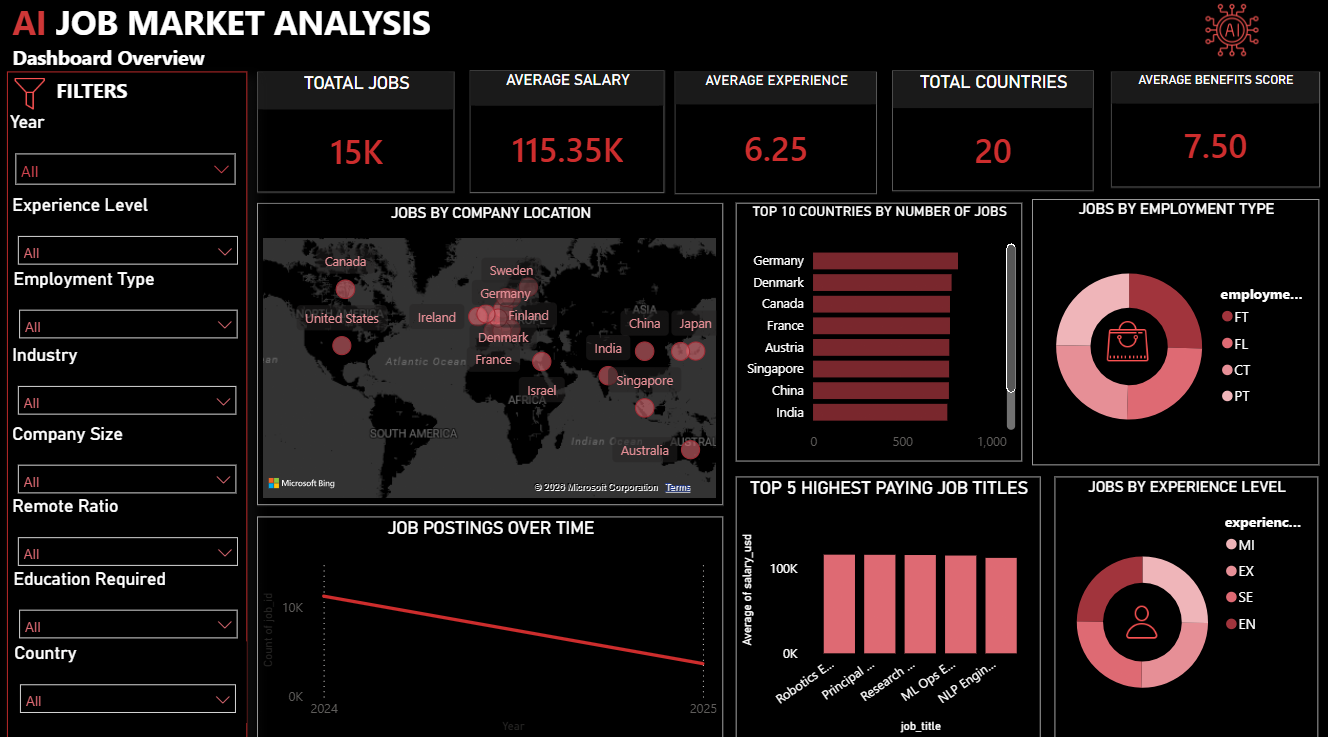

What the dashboard file says about the page in this screenshot:
{"tool":"powerbi","page":{"name":"AI Job Overview","canvas":[1280,720],"ordinal":0},"visuals":[{"type":"cardVisual","title":"TOATAL JOBS","fields":{"Data":["CountNonNull(ai_job_dataset.job_id)"]},"box":[252.4,73.8,188.1,115.5],"z":0},{"type":"textbox","box":[13.7,0,533.8,97.4],"z":1000},{"type":"cardVisual","title":"AVERAGE SALARY","fields":{"Data":["Avg(ai_job_dataset.salary_usd)"]},"box":[454.8,72.6,185.7,116.7],"z":2000},{"type":"cardVisual","title":"AVERAGE EXPERIENCE","fields":{"Data":["Avg(ai_job_dataset.years_experience)"]},"box":[650,73.8,192.9,116.7],"z":3000},{"type":"cardVisual","title":"TOTAL COUNTRIES","fields":{"Data":["Count(ai_job_dataset.company_location)"]},"box":[857.1,72.6,191.7,115.5],"z":4000},{"type":"cardVisual","title":"AVERAGE BENEFITS SCORE","fields":{"Data":["Avg(ai_job_dataset.benefits_score)"]},"box":[1065.5,73.8,198.8,110.7],"z":5000},{"type":"textbox","box":[13.8,73.8,228.8,636.2],"z":6000},{"type":"image","box":[15,78.8,41.2,32.9],"z":7000},{"type":"slicer","title":"Year","fields":{"Values":["ai_job_dataset.posting_date"]},"box":[12.5,112.5,230,77.5],"z":8000},{"type":"slicer","title":"Experience Level","fields":{"Values":["ai_job_dataset.experience_level"]},"box":[13.8,190,230,71.2],"z":9000},{"type":"slicer","title":"Employment Type","fields":{"Values":["ai_job_dataset.employment_type"]},"box":[15,261.2,228.8,72.5],"z":10000},{"type":"slicer","title":"Industry","fields":{"Values":["ai_job_dataset.industry"]},"box":[13.8,333.8,228.8,75],"z":11000},{"type":"slicer","title":"Company Size","fields":{"Values":["ai_job_dataset.company_size"]},"box":[13.8,408.8,228.8,78.8],"z":12000},{"type":"slicer","title":"Remote Ratio","fields":{"Values":["ai_job_dataset.remote_ratio"]},"box":[13.8,477.5,230,67.5],"z":13000},{"type":"slicer","title":"Education Required","fields":{"Values":["ai_job_dataset.education_required"]},"box":[15,546.2,228.8,67.5],"z":14000},{"type":"slicer","title":"Country","fields":{"Values":["ai_job_dataset.company_location"]},"box":[15,616.2,227.5,77.5],"z":15000},{"type":"map","title":"JOBS BY COMPANY LOCATION","fields":{"Category":["ai_job_dataset.company_location"],"Size":["CountNonNull(ai_job_dataset.job_id)"]},"box":[252.4,198.8,444,288.1],"z":16000},{"type":"clusteredBarChart","title":"TOP 10 COUNTRIES BY NUMBER OF JOBS","fields":{"Category":["ai_job_dataset.company_location"],"Y":["CountNonNull(ai_job_dataset.job_id)"]},"box":[708.3,198.8,272.6,246.4],"z":17000},{"type":"donutChart","title":"JOBS BY EMPLOYMENT TYPE","fields":{"Category":["ai_job_dataset.employment_type"],"Y":["CountNonNull(ai_job_dataset.job_id)"]},"box":[990.5,195.2,273.8,253.6],"z":18000},{"type":"image","box":[1057.5,311.2,48.8,45],"z":19000},{"type":"donutChart","title":"JOBS BY EXPERIENCE LEVEL","fields":{"Category":["ai_job_dataset.experience_level"],"Y":["CountNonNull(ai_job_dataset.job_id)"]},"box":[1012.5,460,251.2,250],"z":20000},{"type":"image","box":[1076.2,581.2,37.5,36.2],"z":21000},{"type":"lineChart","title":"JOB POSTINGS OVER TIME","fields":{"Category":["ai_job_dataset.posting_date.Variation.Date Hierarchy.Year","ai_job_dataset.posting_date.Variation.Date Hierarchy.Month"],"Y":["CountNonNull(ai_job_dataset.job_id)"]},"box":[252.4,497.6,444,211.9],"z":22000},{"type":"clusteredColumnChart","title":"TOP 5 HIGHEST PAYING JOB TITLES","fields":{"Category":["ai_job_dataset.job_title"],"Y":["Avg(ai_job_dataset.salary_usd)"]},"box":[708.3,459.5,290.5,250],"z":23000},{"type":"image","box":[1082.1,4.8,197.6,59.5],"z":24000}]}

Visuals, with their boxes in screenshot pixels (x1, y1, x2, y2), scaled from the page's 1280x720 canvas onto the 1328x737 screenshot:
"TOATAL JOBS" cardVisual: (262, 76, 457, 194)
textbox: (14, 0, 568, 100)
"AVERAGE SALARY" cardVisual: (472, 74, 665, 194)
"AVERAGE EXPERIENCE" cardVisual: (674, 76, 875, 195)
"TOTAL COUNTRIES" cardVisual: (889, 74, 1088, 193)
"AVERAGE BENEFITS SCORE" cardVisual: (1105, 76, 1312, 189)
textbox: (14, 76, 252, 727)
image: (16, 81, 58, 114)
"Year" slicer: (13, 115, 252, 194)
"Experience Level" slicer: (14, 194, 253, 267)
"Employment Type" slicer: (16, 267, 253, 342)
"Industry" slicer: (14, 342, 252, 418)
"Company Size" slicer: (14, 418, 252, 499)
"Remote Ratio" slicer: (14, 489, 253, 558)
"Education Required" slicer: (16, 559, 253, 628)
"Country" slicer: (16, 631, 252, 710)
"JOBS BY COMPANY LOCATION" map: (262, 203, 723, 498)
"TOP 10 COUNTRIES BY NUMBER OF JOBS" clusteredBarChart: (735, 203, 1018, 456)
"JOBS BY EMPLOYMENT TYPE" donutChart: (1028, 200, 1312, 459)
image: (1097, 319, 1148, 365)
"JOBS BY EXPERIENCE LEVEL" donutChart: (1050, 471, 1311, 727)
image: (1117, 595, 1155, 632)
"JOB POSTINGS OVER TIME" lineChart: (262, 509, 723, 726)
"TOP 5 HIGHEST PAYING JOB TITLES" clusteredColumnChart: (735, 470, 1036, 726)
image: (1123, 5, 1327, 66)
